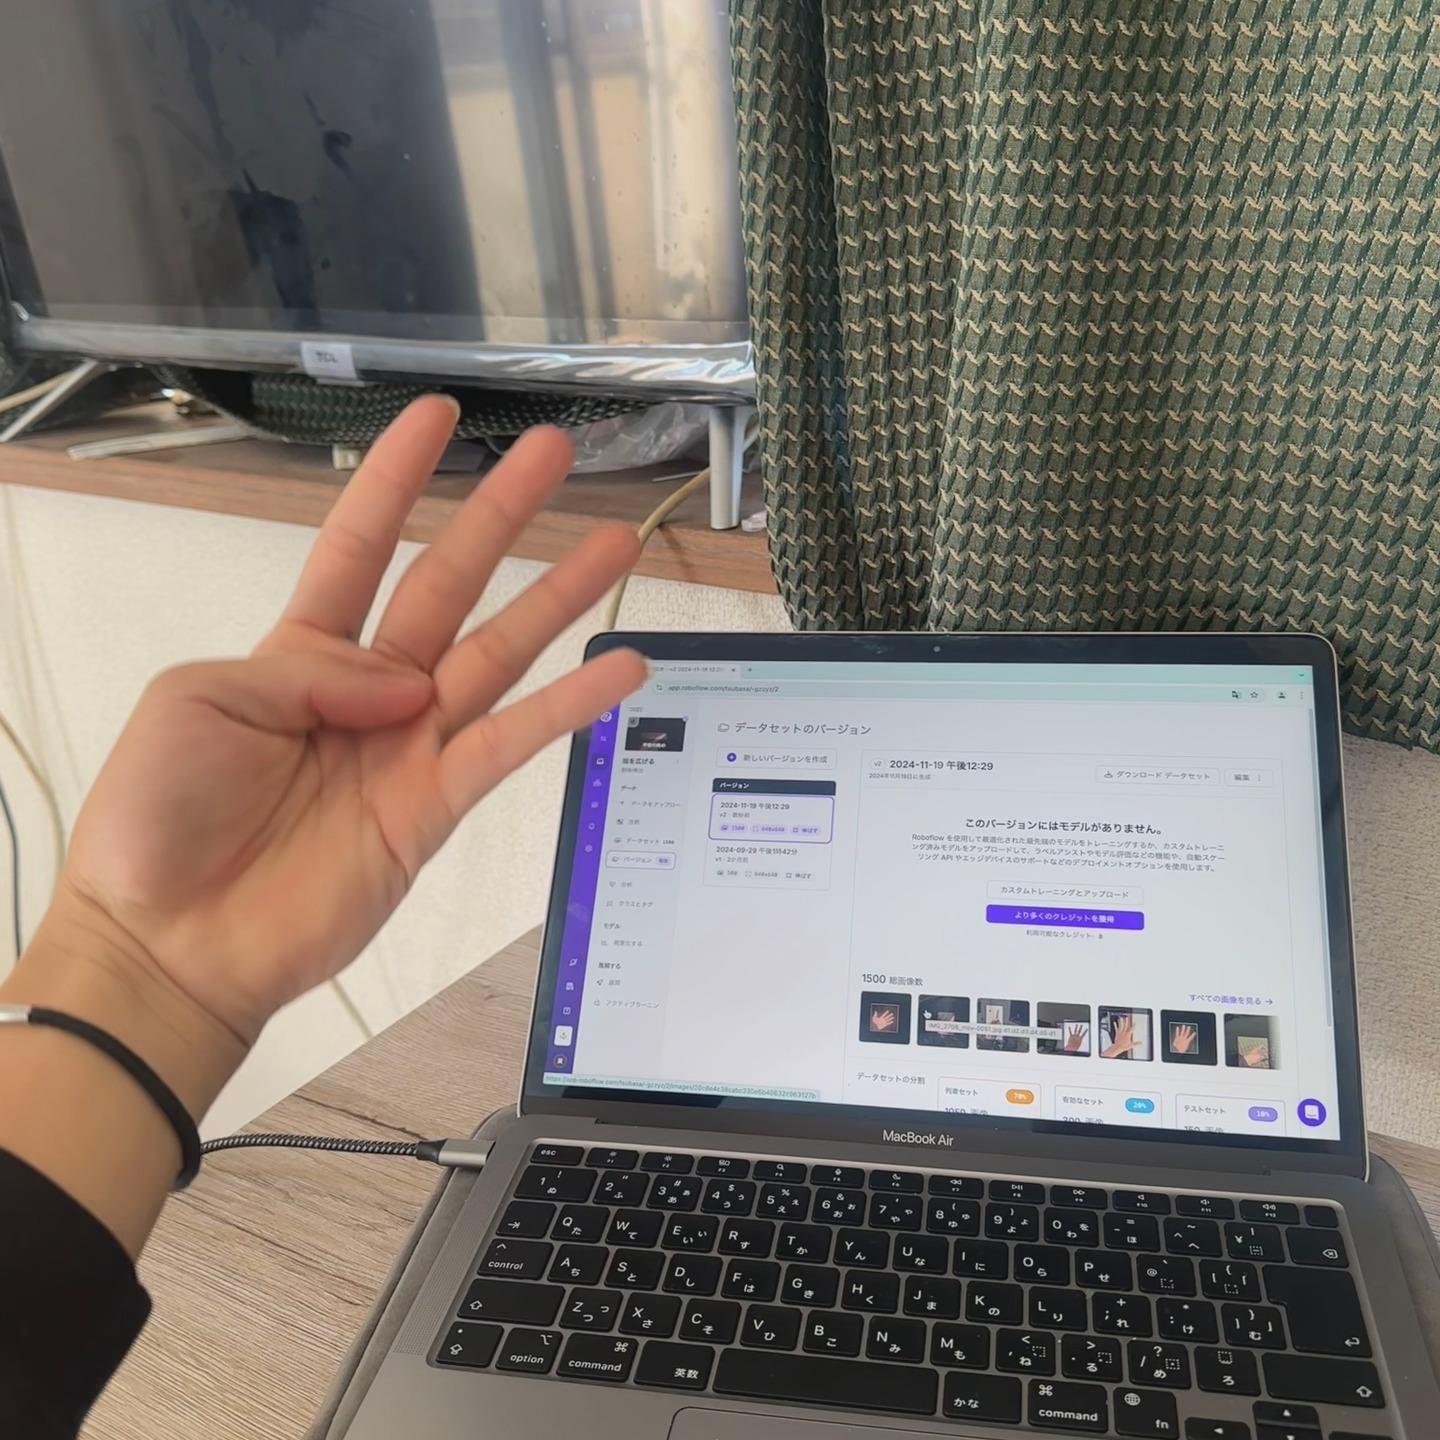without_gloves: (114, 260, 755, 1080)
